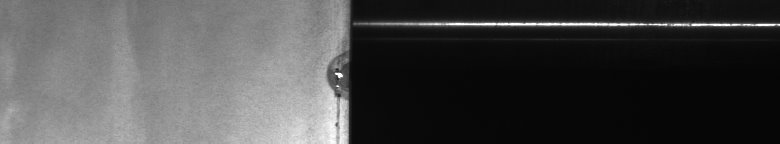hb: (316, 46, 340, 136)
